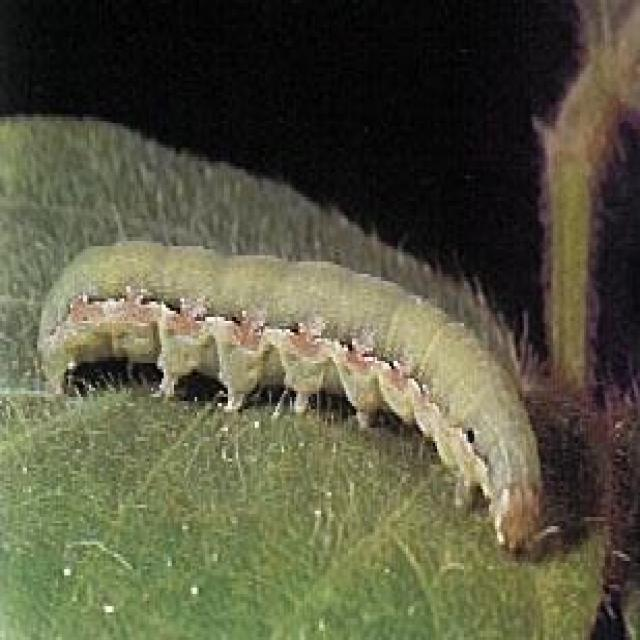BeetArmyWorm-Larva-: (24, 223, 547, 549)
